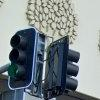traffic lights: (47, 36, 80, 99), (6, 28, 34, 89)
